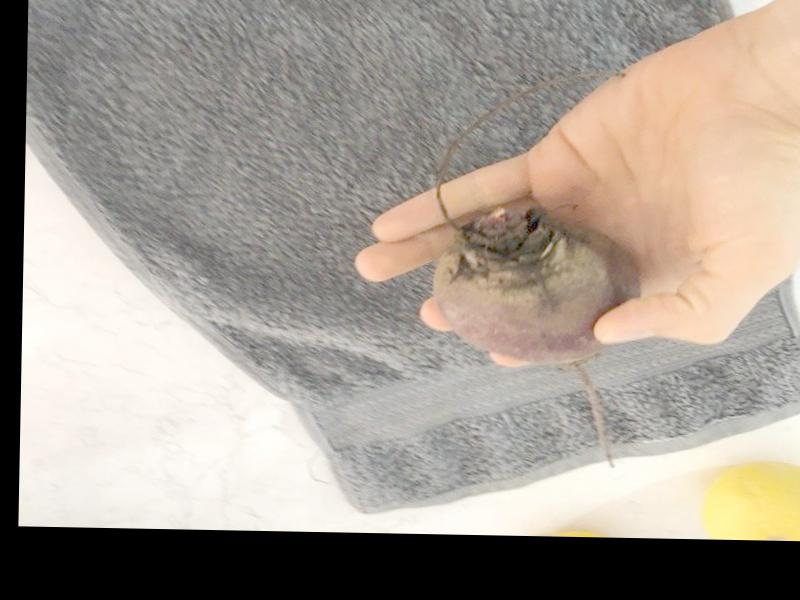Beet: (432, 198, 642, 467)
